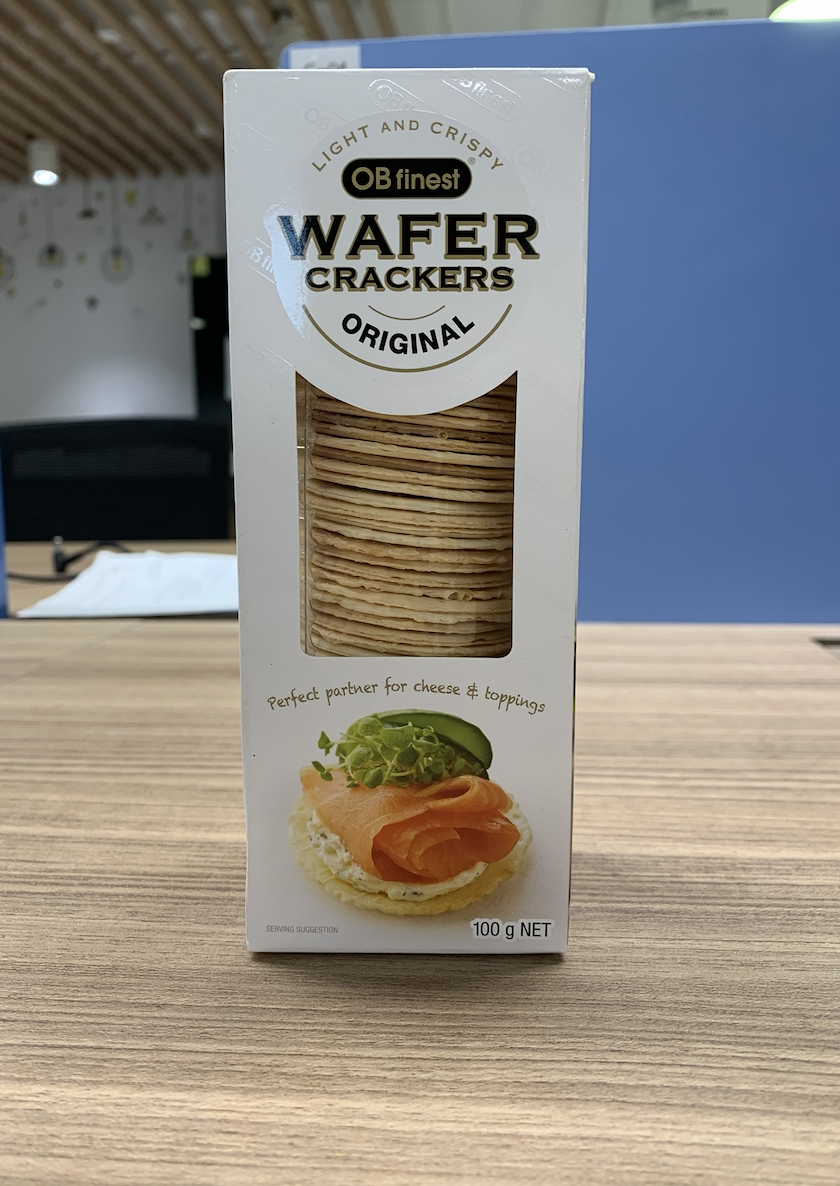crackers_100g-199g: (243, 80, 572, 949)
